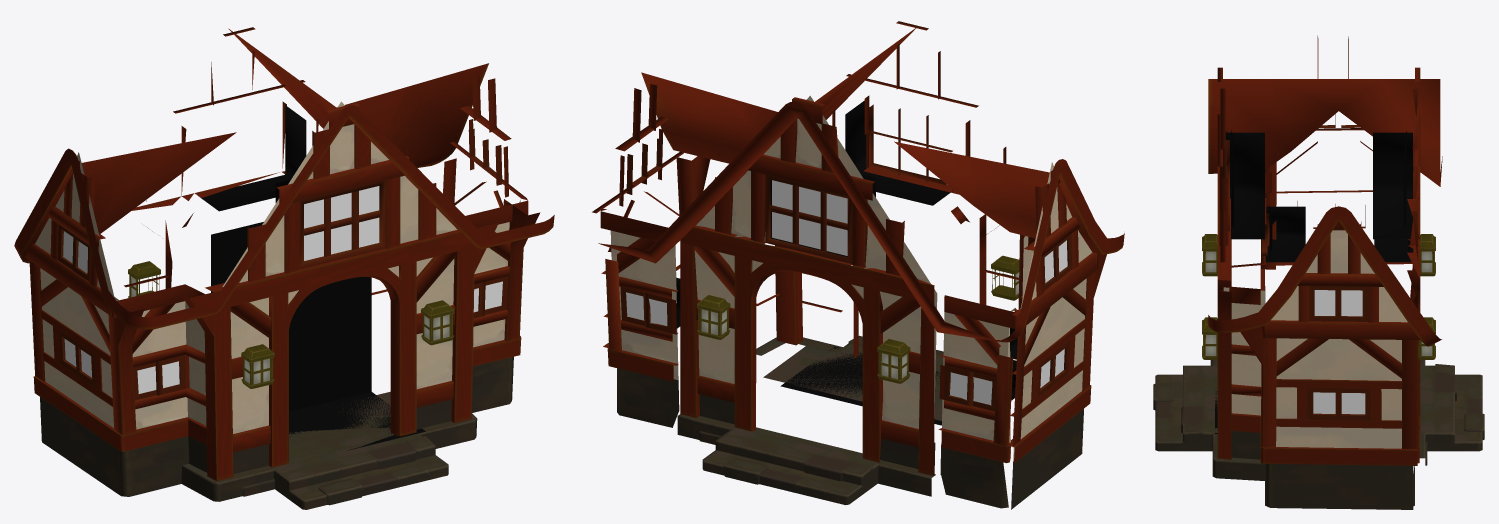
Rendered from chalet-wall-c.glb.
3 renders of one model, left to right at view 1: azimuth 30°, elevation 25°; view 2: azimuth 150°, elevation 25°; view 3: azimuth 270°, elevation 25°, orthographic. The views are drawn at different scales.
Visible parts, largest first — view 1: Brick00__mWallA, Wood00_low__mWallB, BrickBack__mHouseInner, WindowGlass00__mWindowGlass, LampDownL__mLamp, HouseInnerL__mHouseInner, SideWindow01__mSideWindow; view 2: Brick00__mWallA, Wood00_low__mWallB, WindowGlass00__mWindowGlass, LampDownL__mLamp, HouseInnerL__mHouseInner, BrickBack__mHouseInner, SideWindow01__mSideWindow; view 3: Brick00__mWallA, Wood00_low__mWallB, HouseInnerL__mHouseInner, LampDownL__mLamp, SideWindow01__mSideWindow, CL__mCurtain.
Boxes of the visible parts, left/top/right/bottom form: Brick00__mWallA: left=14, top=28, right=554, bottom=509; Wood00_low__mWallB: left=25, top=27, right=540, bottom=480; BrickBack__mHouseInner: left=211, top=222, right=425, bottom=450; WindowGlass00__mWindowGlass: left=137, top=186, right=502, bottom=393; LampDownL__mLamp: left=128, top=261, right=454, bottom=388; HouseInnerL__mHouseInner: left=201, top=105, right=306, bottom=211; SideWindow01__mSideWindow: left=63, top=231, right=92, bottom=377; Brick00__mWallA: left=598, top=28, right=1124, bottom=509; Wood00_low__mWallB: left=592, top=21, right=1106, bottom=475; WindowGlass00__mWindowGlass: left=626, top=180, right=992, bottom=405; LampDownL__mLamp: left=697, top=255, right=1019, bottom=383; HouseInnerL__mHouseInner: left=676, top=100, right=1017, bottom=400; BrickBack__mHouseInner: left=780, top=346, right=941, bottom=425; SideWindow01__mSideWindow: left=1040, top=240, right=1067, bottom=387; Brick00__mWallA: left=1153, top=79, right=1484, bottom=509; Wood00_low__mWallB: left=1217, top=35, right=1420, bottom=465; HouseInnerL__mHouseInner: left=1225, top=132, right=1413, bottom=262; LampDownL__mLamp: left=1202, top=234, right=1435, bottom=359; SideWindow01__mSideWindow: left=1313, top=290, right=1365, bottom=414; CL__mCurtain: left=1231, top=130, right=1410, bottom=257.
Bounding box in the file's own units: 48.63 × 39.51 × 33.75.
Materials: 7 (3 with a texture image).
